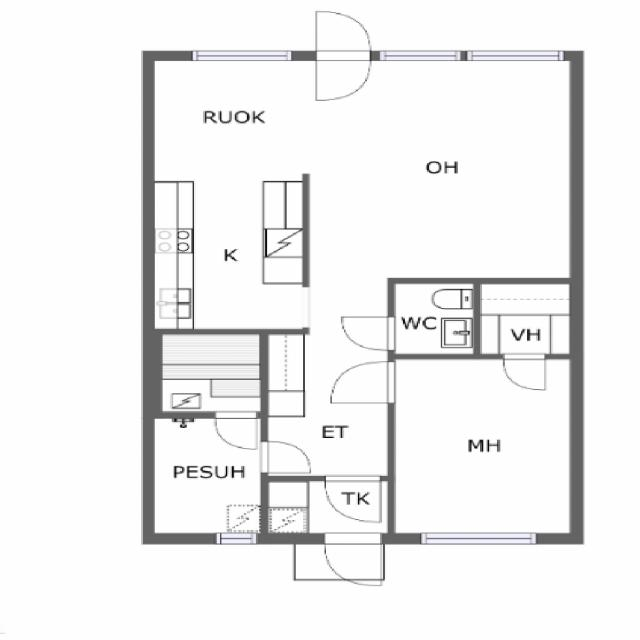door: (324, 534, 380, 585), (316, 51, 370, 100), (316, 11, 370, 60), (324, 476, 380, 522), (332, 362, 395, 402), (343, 317, 395, 350), (261, 441, 310, 472), (216, 412, 256, 449), (503, 354, 545, 389)
